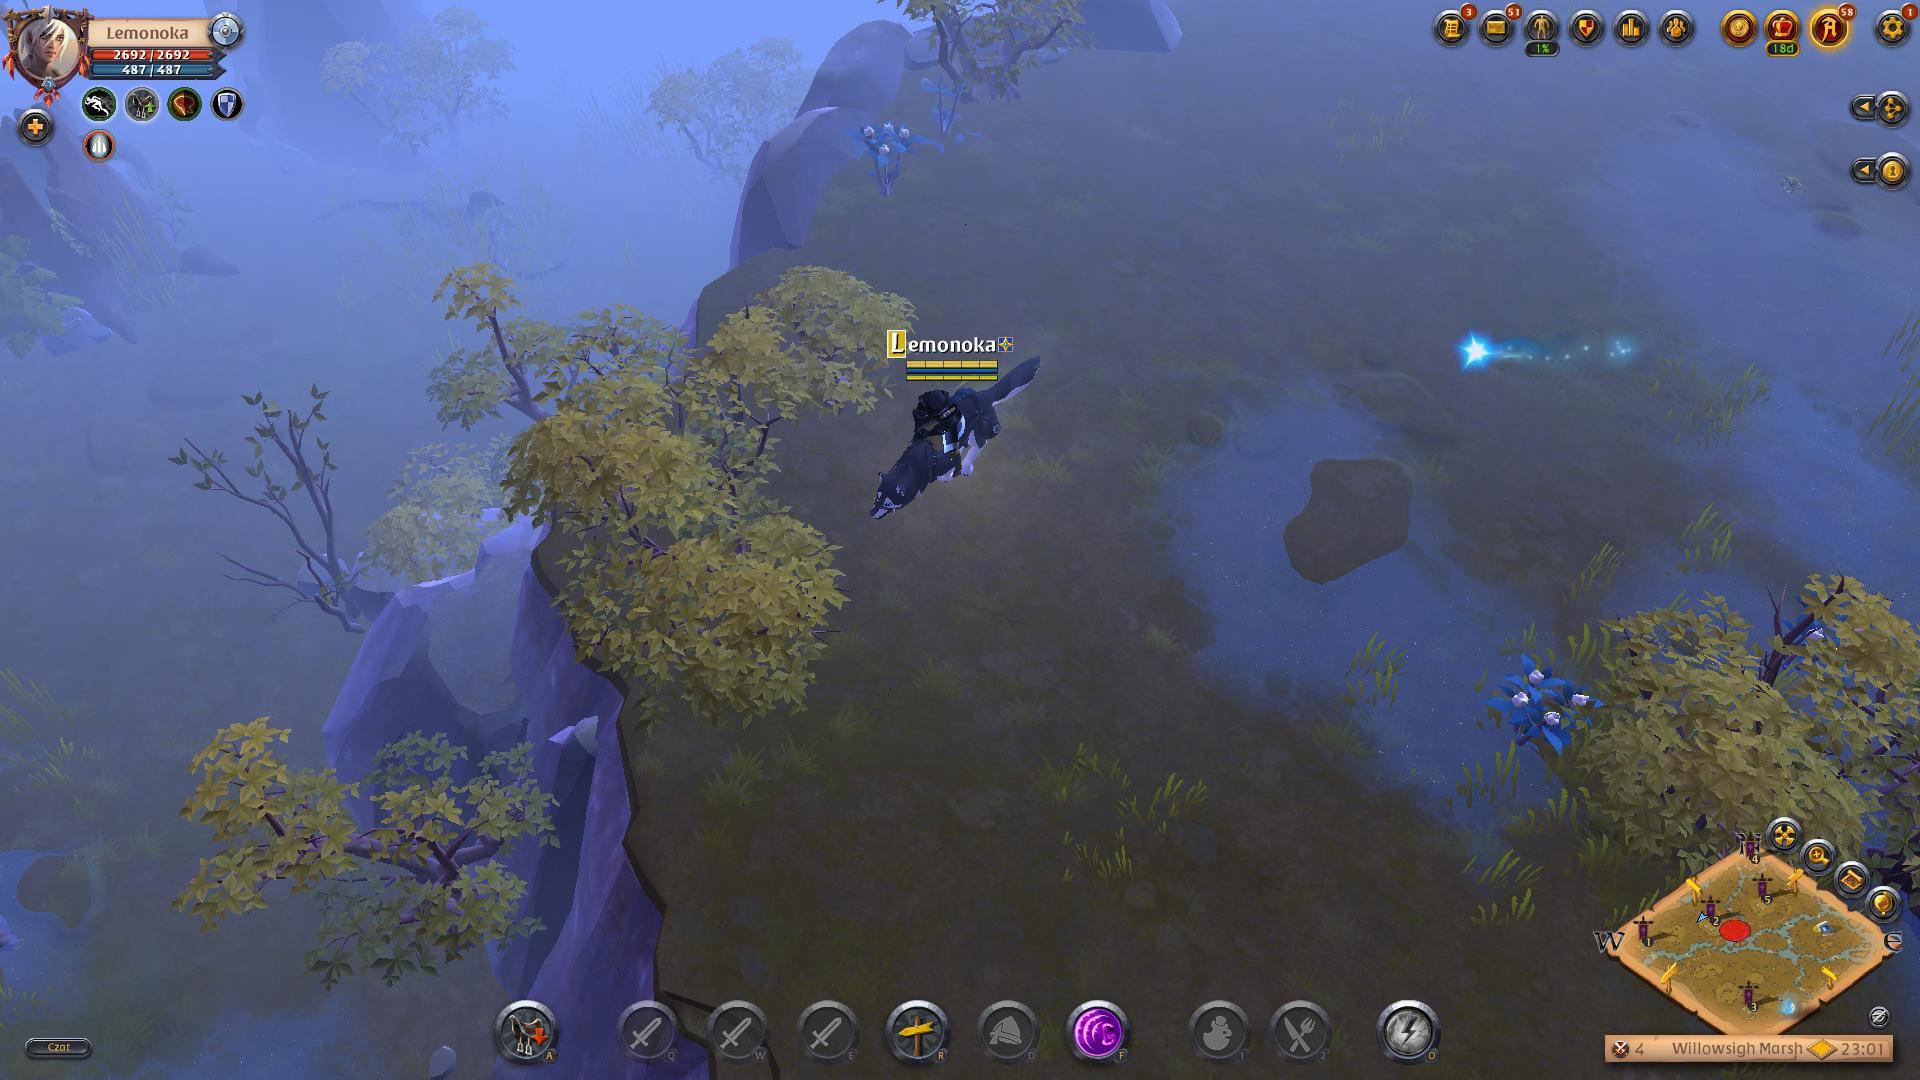fiber tier 4: (1489, 653, 1602, 764), (847, 116, 927, 196)
